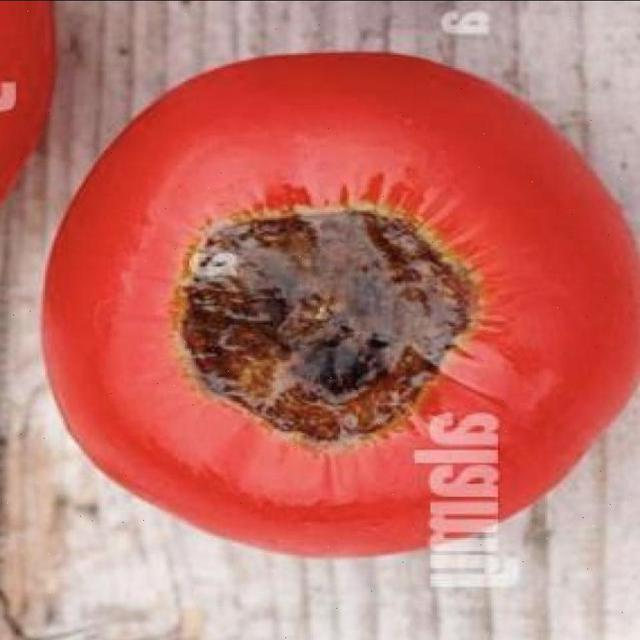Blossom End Rot Fruit: (110, 134, 319, 295)
